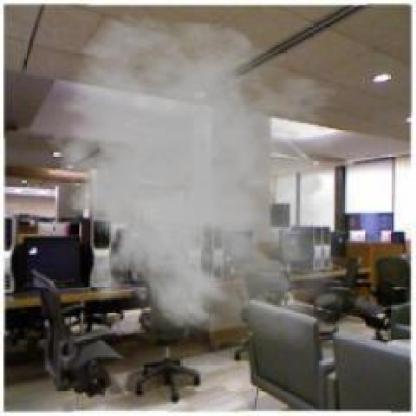Smoke: (36, 14, 377, 360)
